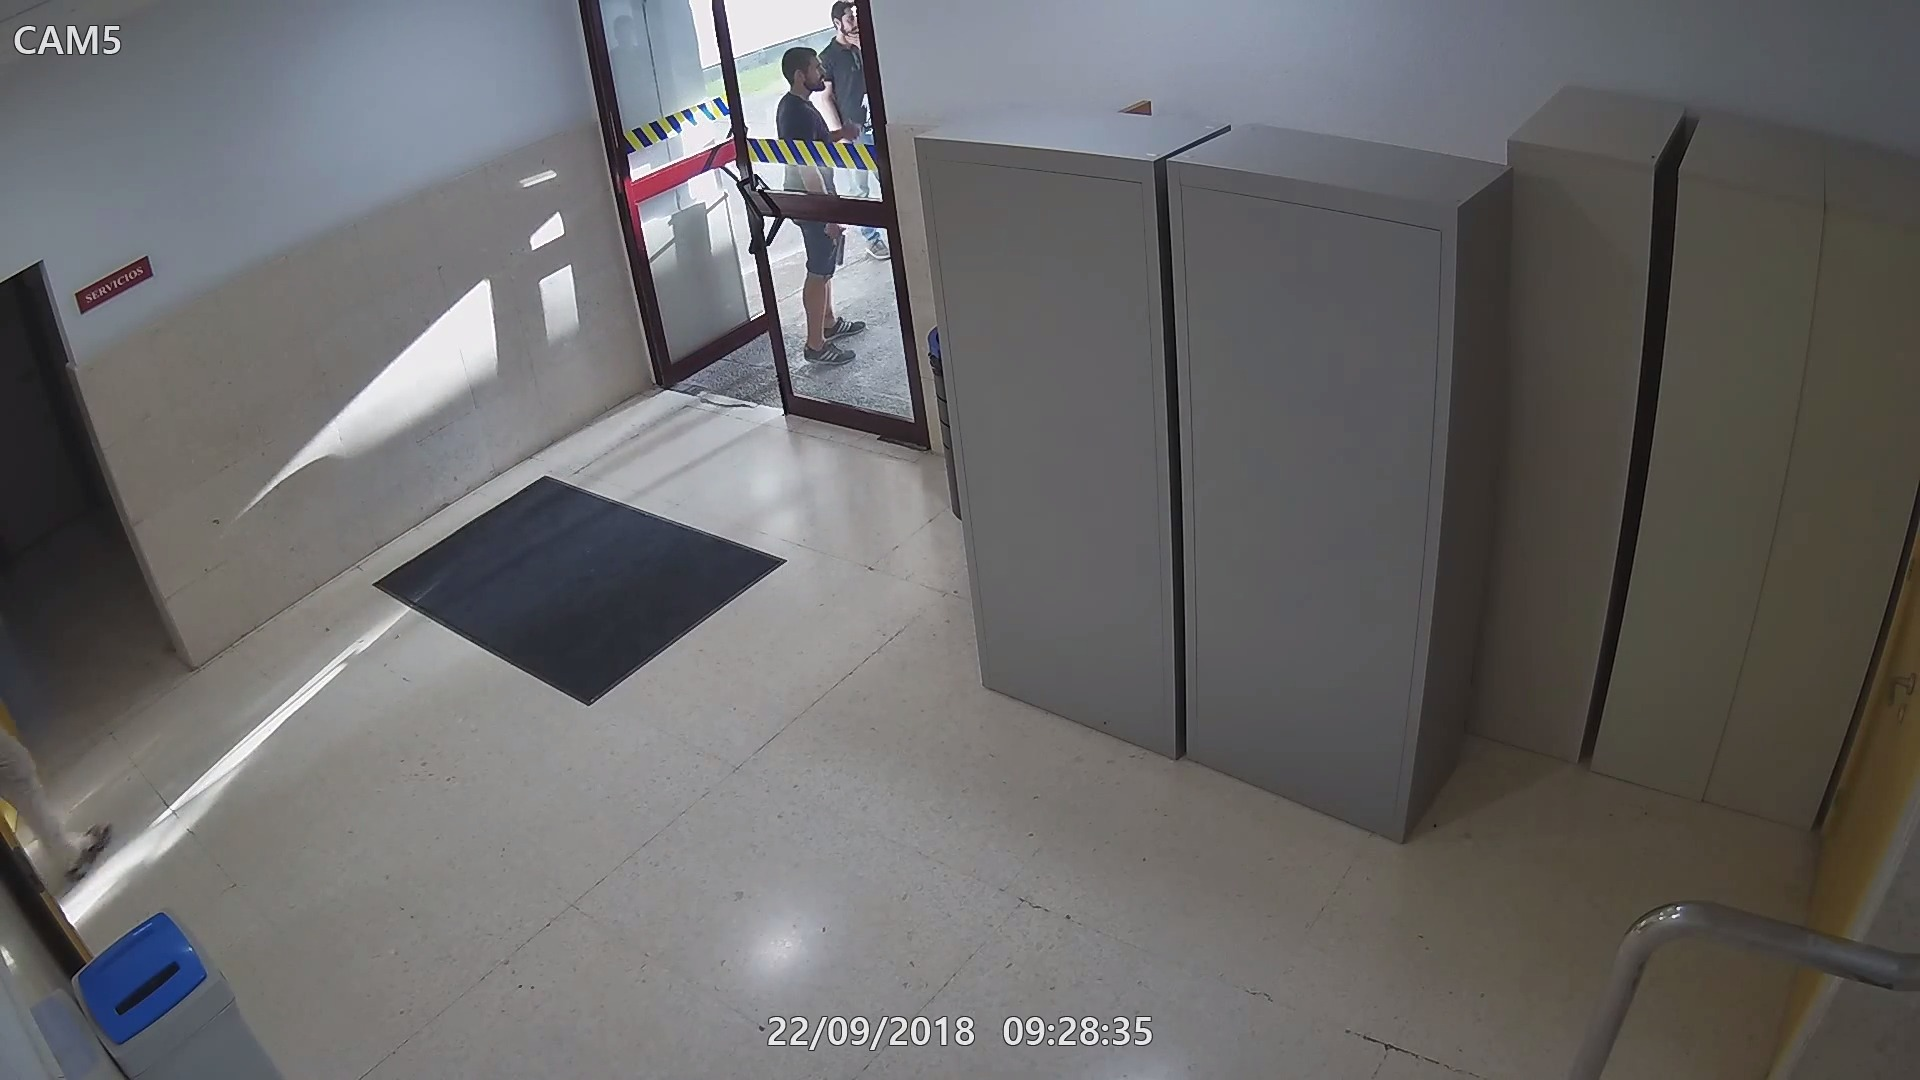Handgun: (822, 220, 855, 268)
